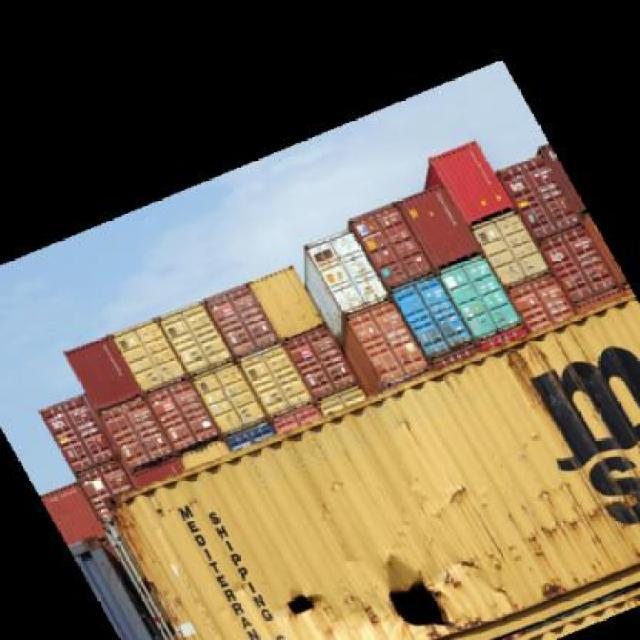hole: (366, 554, 475, 640), (275, 589, 331, 629)
rust: (484, 484, 640, 567)
